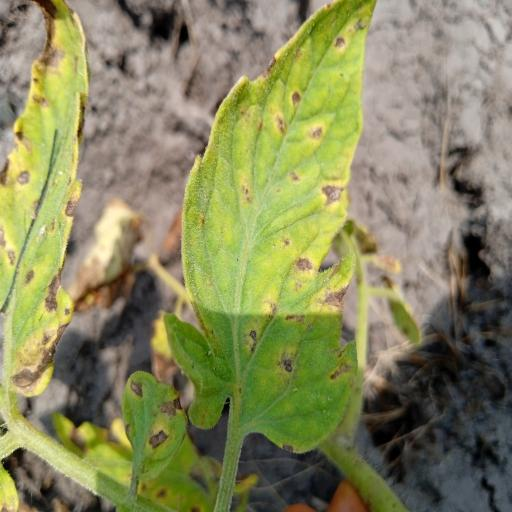Tomato_Brown_Spots: (160, 0, 380, 456), (0, 0, 93, 402)
